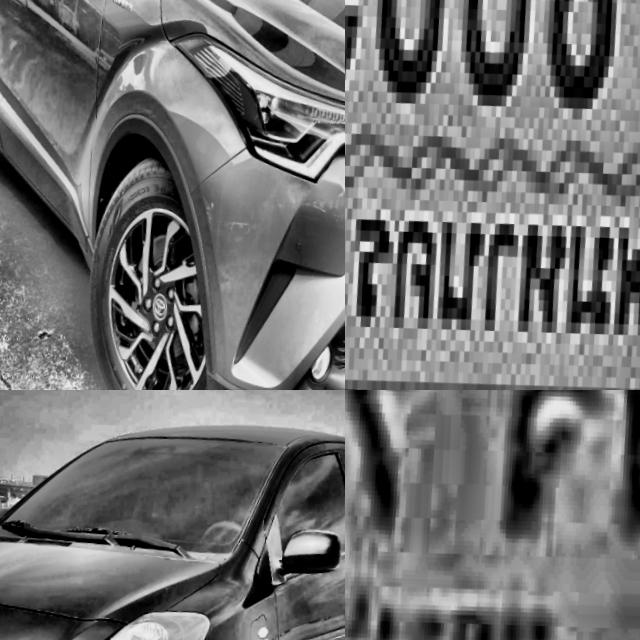license-plate: (345, 0, 640, 390), (345, 390, 640, 640)
